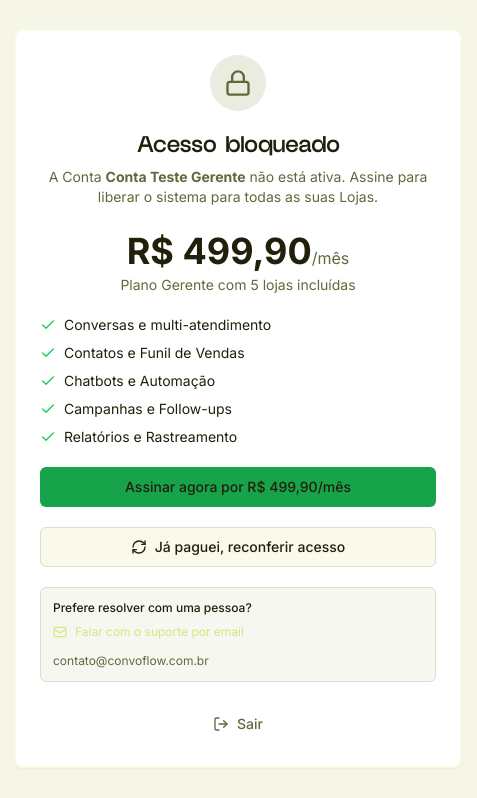
it: GERENTE — bloqueado, mas com caminho de pagamento › recusa do servidor aparece NA TELA, não só num toast que some
The image size is (477, 798).
Click the button "Assinar agora por R$ 499,90/mês" at (238, 486), box [40, 466, 436, 506]
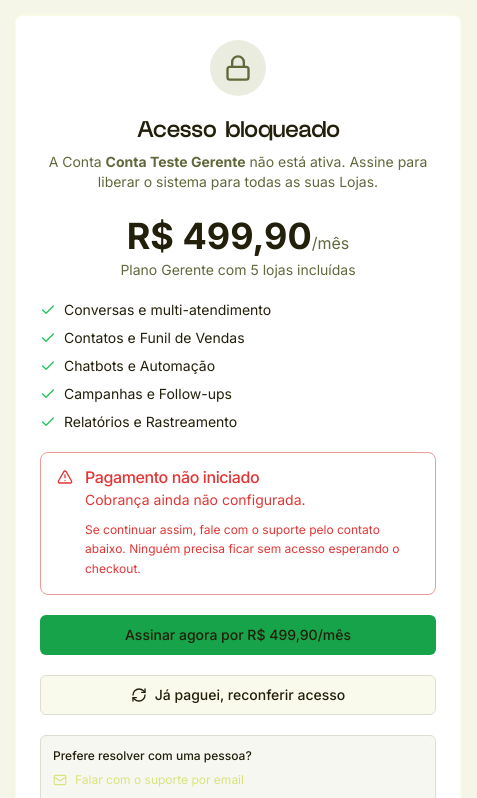
Expected: the text "Cobrança ainda não configurada." is shown, [85, 491, 306, 508]
